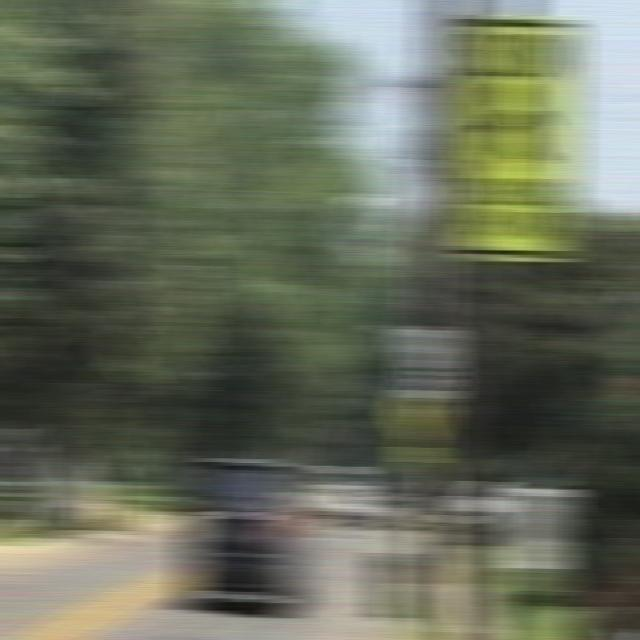speedLimit35: (403, 328, 457, 403)
